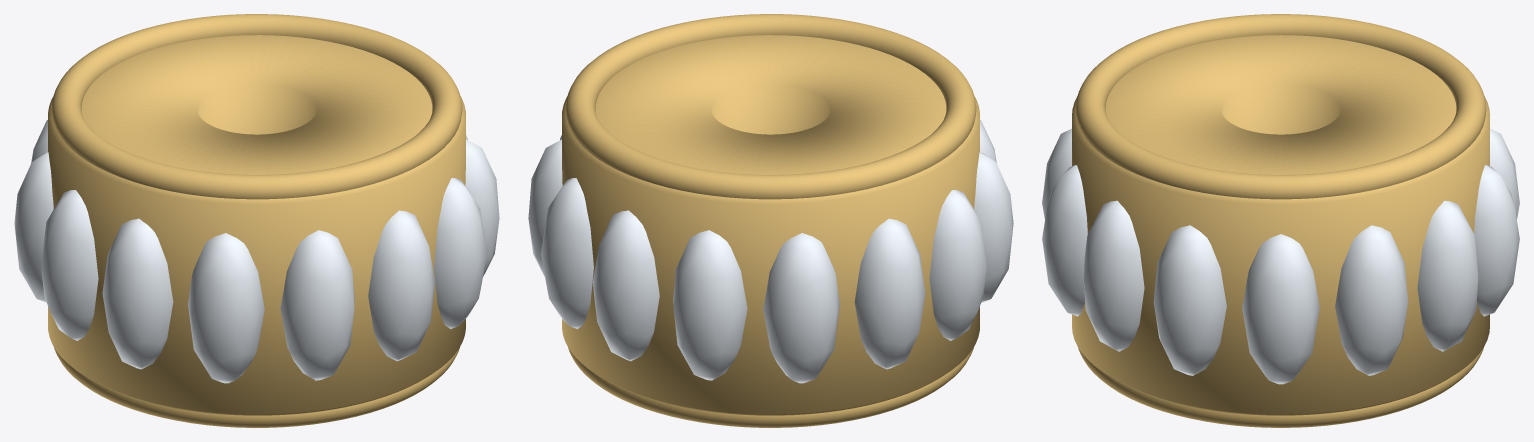
File: spacer-17-gold.glb
The picture shows the model from 3 angles, left to right: view 1: azimuth 30°, elevation 25°; view 2: azimuth 150°, elevation 25°; view 3: azimuth 270°, elevation 25°; orthographic projection.
Visible parts, largest first — view 1: Spacer with through bore.030, Spacer with through bore.032, Icosphere.037, Icosphere.038, Icosphere.036, Icosphere.039, Icosphere.035, Icosphere.040, Spacer with through bore.031, Icosphere.034, Icosphere.041; view 2: Spacer with through bore.030, Spacer with through bore.032, Icosphere.033, Icosphere.032, Icosphere.034, Icosphere.031, Icosphere.035, Icosphere.030, Spacer with through bore.031, Icosphere.036, Icosphere.029; view 3: Spacer with through bore.030, Spacer with through bore.032, Icosphere.028, Icosphere.029, Icosphere.041, Icosphere.030, Icosphere.040, Icosphere.031, Icosphere.039, Spacer with through bore.031, Icosphere.032, Icosphere.038.
Part boxes in pixels (x1,y1,x2,y2): Spacer with through bore.030: (48,35,465,415); Spacer with through bore.032: (51,14,462,199); Icosphere.037: (188,233,264,383); Icosphere.038: (280,230,354,380); Icosphere.036: (102,218,173,369); Icosphere.039: (368,210,435,361); Icosphere.035: (41,190,98,340); Icosphere.040: (434,178,486,328); Spacer with through bore.031: (54,347,459,427); Icosphere.034: (14,152,53,302); Icosphere.041: (465,139,499,276); Spacer with through bore.030: (562,35,979,415); Spacer with through bore.032: (565,14,976,199); Icosphere.033: (763,233,839,383); Icosphere.032: (673,230,747,380); Icosphere.034: (854,218,925,369); Icosphere.031: (592,210,659,361); Icosphere.035: (929,190,986,340); Icosphere.030: (541,178,593,328); Spacer with through bore.031: (568,347,973,427); Icosphere.036: (974,152,1013,302); Icosphere.029: (528,139,562,276); Spacer with through bore.030: (1072,35,1489,415); Spacer with through bore.032: (1075,14,1486,199); Icosphere.028: (1242,234,1319,384); Icosphere.029: (1335,225,1408,375); Icosphere.041: (1153,225,1226,375); Icosphere.030: (1417,200,1478,351); Icosphere.040: (1083,200,1144,351); Icosphere.031: (1474,165,1519,316); Icosphere.039: (1042,165,1087,316); Spacer with through bore.031: (1078,347,1483,427); Icosphere.032: (1490,128,1519,219); Icosphere.038: (1042,128,1071,219).
Size of the model in its own units: 0.00649 by 0.0037 by 0.0064.
